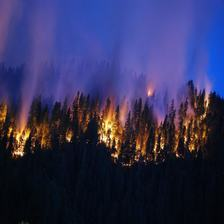fire: (2, 86, 219, 163)
